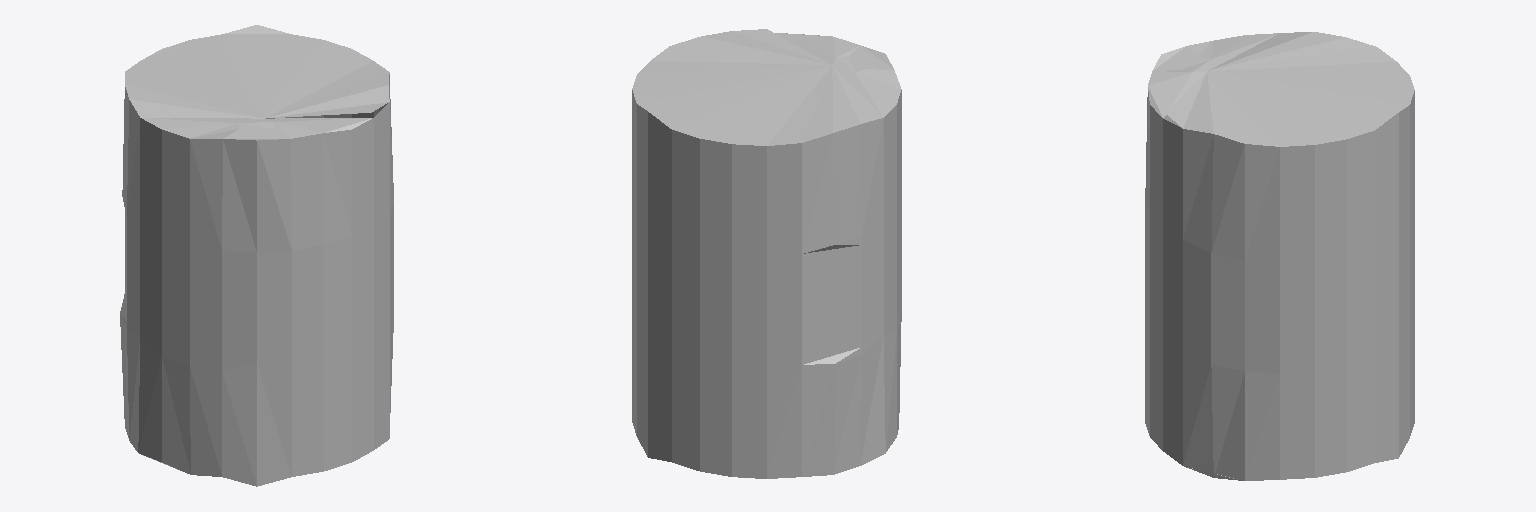
The model's file is oilbarrel3.obj.
The picture shows the model from 3 angles: view 1: azimuth 30°, elevation 25°; view 2: azimuth 150°, elevation 25°; view 3: azimuth 270°, elevation 25°; orthographic projection.
Visible parts, largest first — view 1: Barrel02_1 Mesh2 Model polySurface641 polySurface642 polySurface, polySurface641 polySurface642 polySurface1; view 2: Barrel02_1 Mesh2 Model polySurface641 polySurface642 polySurface, polySurface641 polySurface642 polySurface1; view 3: Barrel02_1 Mesh2 Model polySurface641 polySurface642 polySurface.
Boxes of the visible parts, box(x1,y1,x2,y2) form: Barrel02_1 Mesh2 Model polySurface641 polySurface642 polySurface: box(120, 25, 393, 486); polySurface641 polySurface642 polySurface1: box(129, 335, 182, 471); Barrel02_1 Mesh2 Model polySurface641 polySurface642 polySurface: box(632, 29, 901, 478); polySurface641 polySurface642 polySurface1: box(861, 331, 896, 465); Barrel02_1 Mesh2 Model polySurface641 polySurface642 polySurface: box(1145, 32, 1414, 480).
Bounding box in the file's own units: 1.9 × 2.67 × 1.88.